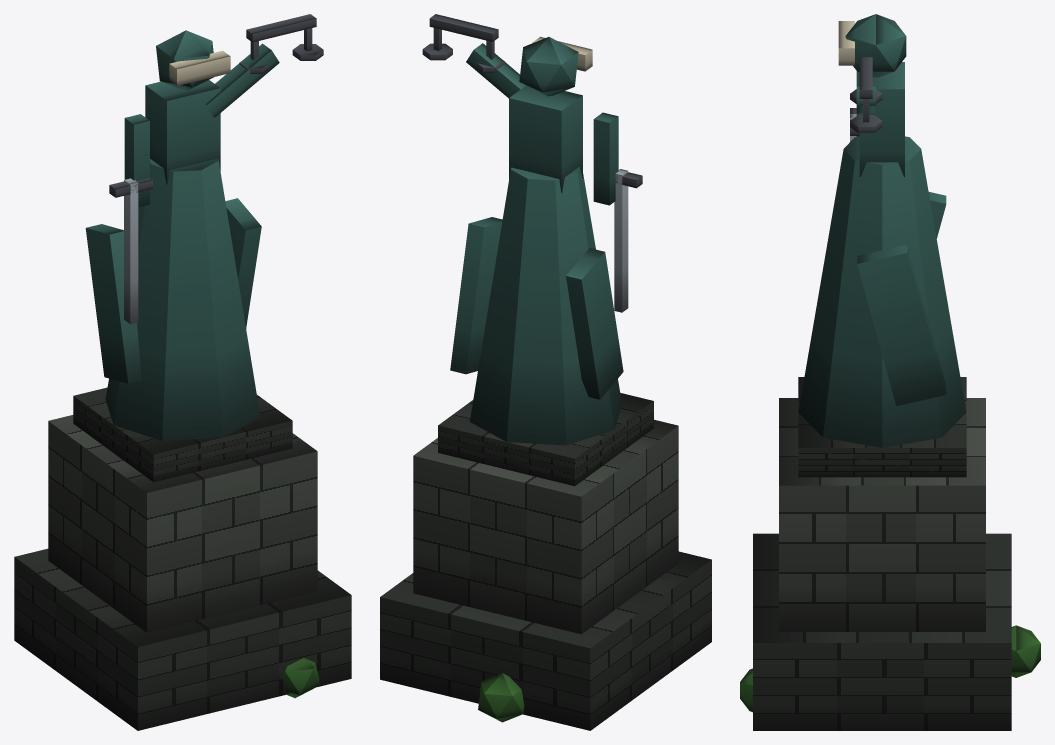
Rendered from draped_statue.glb.
The picture shows the model from 3 angles, left to right: view 1: azimuth 30°, elevation 25°; view 2: azimuth 150°, elevation 25°; view 3: azimuth 270°, elevation 25°; orthographic projection. The views are drawn at different scales.
Parts seen in each view (by area): view 1: draped_statue; view 2: draped_statue; view 3: draped_statue.
Part boxes in pixels (x1,y1,x2,y2): draped_statue: (14,14,351,730); draped_statue: (380,14,711,730); draped_statue: (740,14,1040,730).
Size of the model in its own units: 0.8833 by 2.3 by 0.9305.
Materials: 1 (1 with a texture image).
